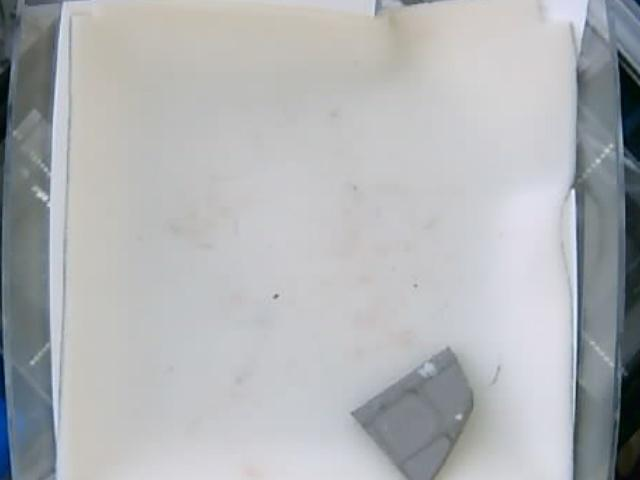China: (349, 343, 473, 480)
